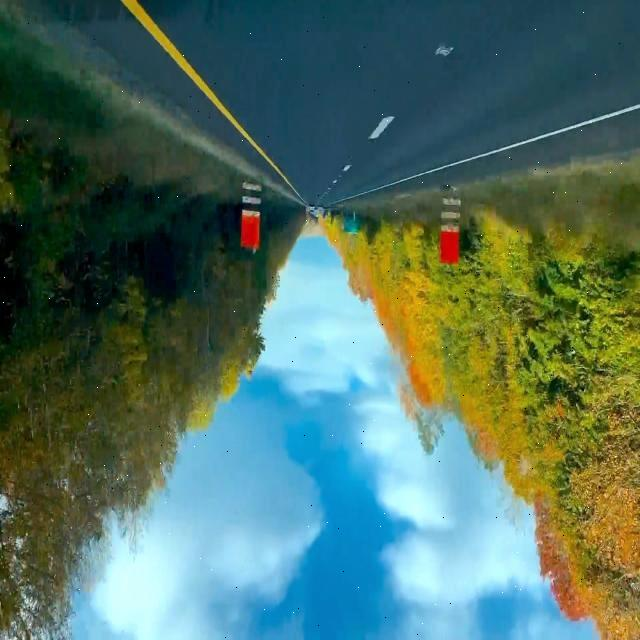lane: (120, 1, 302, 199), (344, 106, 638, 199), (370, 117, 394, 139)
road: (141, 1, 639, 205)
